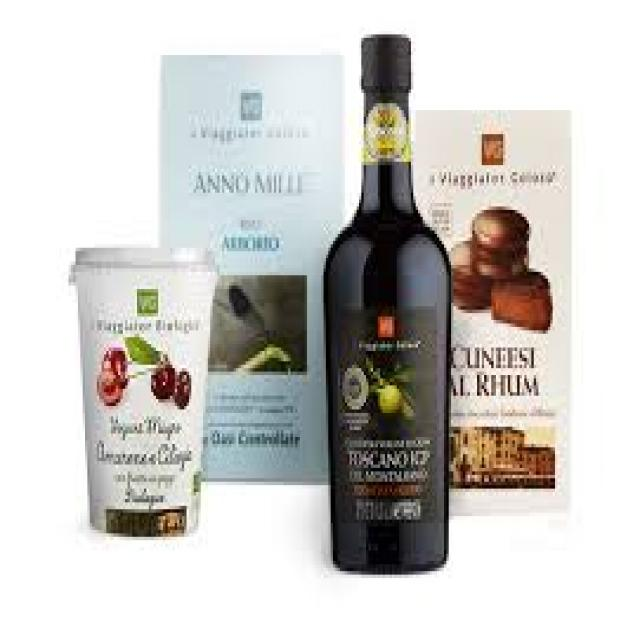Cheese: (30, 10, 621, 619)
